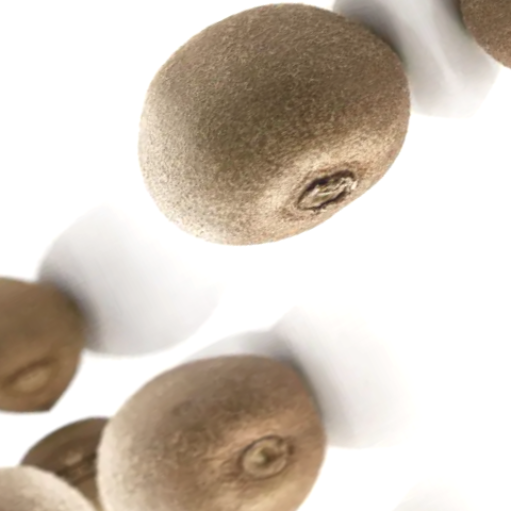kiwi: (65, 0, 475, 316), (47, 282, 381, 511)
